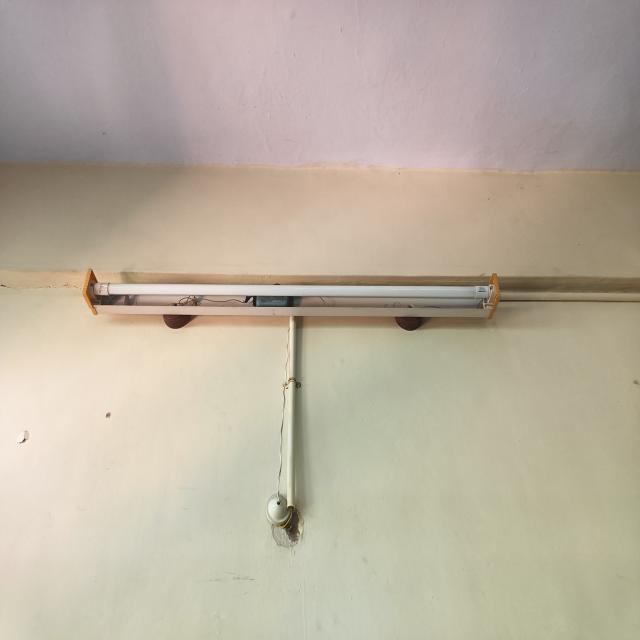tubelight_off: (80, 267, 503, 327)
